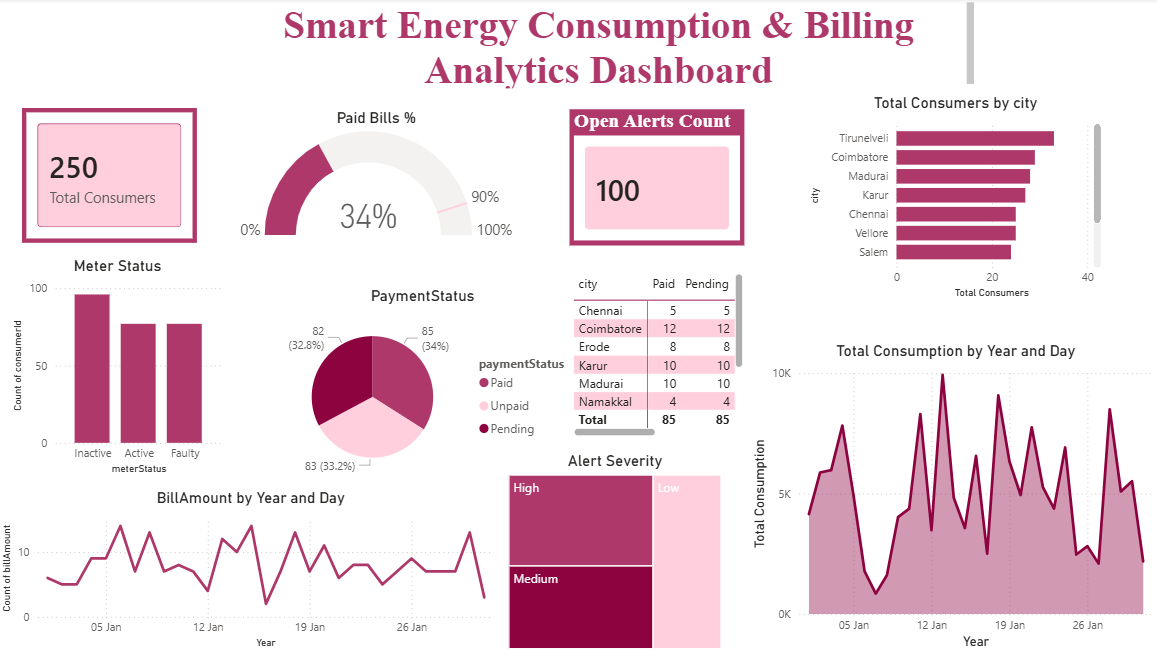

The page's visual inventory and layout, read from the dashboard file:
{"tool":"powerbi","page":{"name":"Page 1","canvas":[1280,720],"ordinal":0},"visuals":[{"type":"textbox","box":[252.5,0,824.7,104.3],"z":0},{"type":"cardVisual","fields":{"Data":["Consumer.Total Consumers"]},"box":[27.4,120.8,192.1,148.2],"z":1},{"type":"cardVisual","title":"Open Alerts Count","fields":{"Data":["EnergyAlert.Open Alerts Count"]},"box":[628.5,122.1,192.1,149.6],"z":3},{"type":"gauge","fields":{"Y":["BillingRecord.Paid Bills %"]},"box":[252.5,120.8,328,149.6],"z":4},{"type":"clusteredBarChart","fields":{"Y":["Consumer.Total Consumers"],"Category":["Consumer.city"]},"box":[887.8,104.3,329.3,230.5],"z":5},{"type":"columnChart","title":"Meter Status","fields":{"Category":["SmartMeter.meterStatus"],"Y":["CountNonNull(SmartMeter.consumerId)"]},"box":[12.9,284.3,240,244.3],"z":6},{"type":"lineChart","title":"BillAmount by Year and Day","fields":{"Y":["CountNonNull(BillingRecord.billAmount)"],"Category":["BillingRecord.billingDate.Variation.Date Hierarchy.Year","BillingRecord.billingDate.Variation.Date Hierarchy.Day"]},"box":[0,538.6,557.1,181.4],"z":7},{"type":"pieChart","title":" PaymentStatus","fields":{"Category":["BillingRecord.paymentStatus"],"Y":["CountNonNull(BillingRecord.billingId)"]},"box":[291.4,317.1,352.9,221.4],"z":8},{"type":"treemap","title":"Alert Severity","fields":{"Group":["EnergyAlert.alertSeverity"],"Values":["EnergyAlert.Total Alerts"]},"box":[557.1,498.6,242.9,221.4],"z":9},{"type":"areaChart","fields":{"Y":["ConsumptionRecord.Total Consumption"],"Category":["ConsumptionRecord.readingDate.Variation.Date Hierarchy.Year","ConsumptionRecord.readingDate.Variation.Date Hierarchy.Day"]},"box":[824.3,377.1,455.7,342.9],"z":10},{"type":"pivotTable","fields":{"Rows":["Consumer.city"],"Columns":["BillingRecord.paymentStatus"],"Values":["BillingRecord.Paid Bills Count"]},"box":[628.6,297.1,195.7,188.6],"z":11}]}

Visuals, with their boxes in screenshot pixels (x1, y1, x2, y2), scaled from the page's 1280x720 canvas onto the 1157x653 screenshot:
textbox: [228, 0, 974, 95]
cardVisual - Consumer.Total Consumers: [25, 110, 198, 244]
"Open Alerts Count" cardVisual: [568, 111, 742, 246]
gauge - BillingRecord.Paid Bills %: [228, 110, 525, 245]
clusteredBarChart - Consumer.Total Consumers x Consumer.city: [802, 95, 1100, 304]
"Meter Status" columnChart: [12, 258, 229, 479]
"BillAmount by Year and Day" lineChart: [0, 488, 504, 652]
" PaymentStatus" pieChart: [263, 288, 582, 488]
"Alert Severity" treemap: [504, 452, 723, 652]
areaChart - ConsumptionRecord.Total Consumption x ConsumptionRecord.readingDate.Variation.Date Hierarchy.Year: [745, 342, 1156, 652]
pivotTable - Consumer.city x BillingRecord.paymentStatus: [568, 269, 745, 441]
